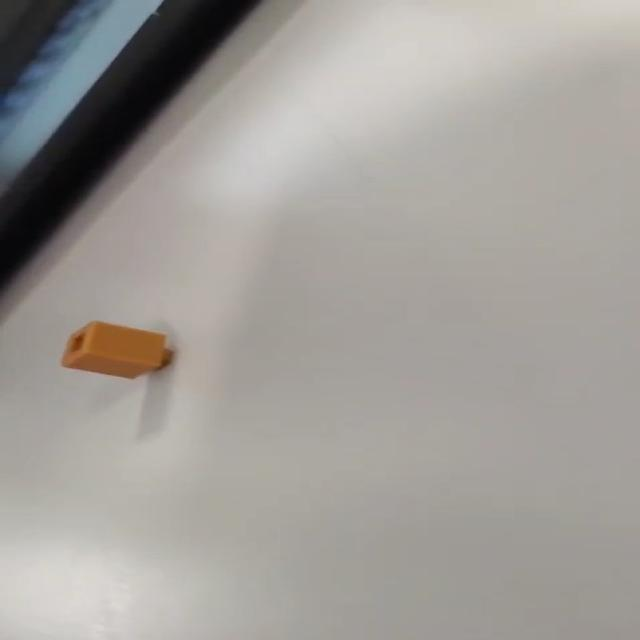C1x1x1: (59, 319, 173, 380)
